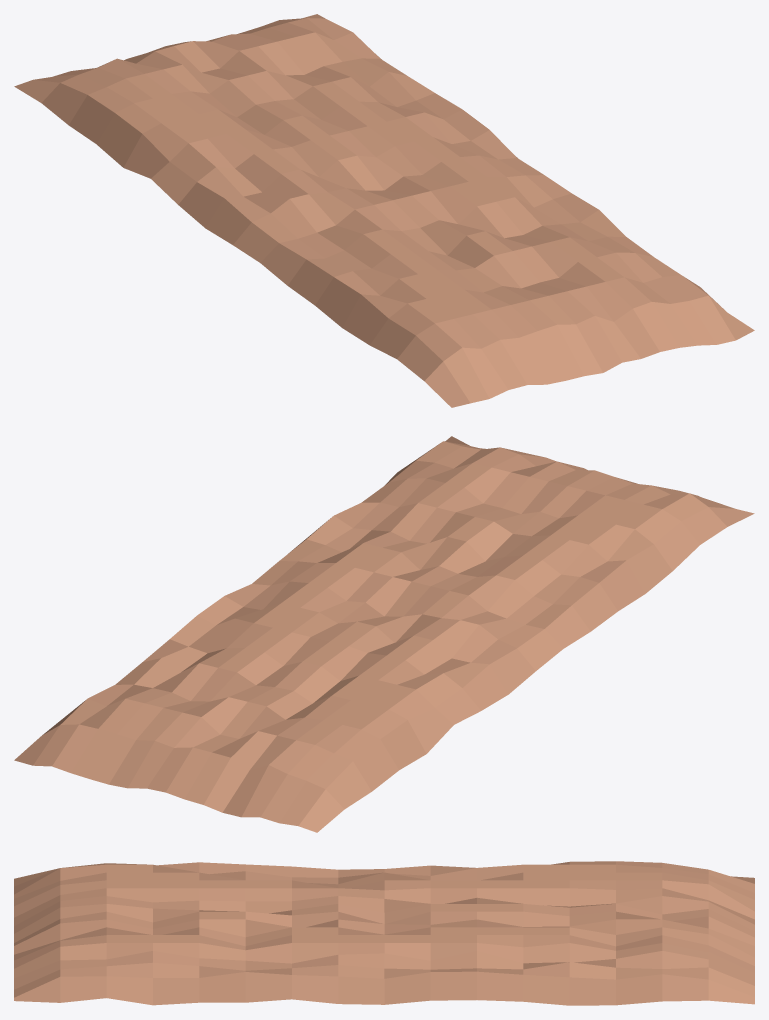
Rendered from mod_bg_SolLarge.fbx.
The picture shows the model from 3 angles, top to bottom: view 1: azimuth 30°, elevation 25°; view 2: azimuth 150°, elevation 25°; view 3: azimuth 270°, elevation 25°; orthographic projection. The views are drawn at different scales.
Parts seen in each view (by area): view 1: SolLarge; view 2: SolLarge; view 3: SolLarge.
Part boxes in pixels (x1,y1,x2,y2): SolLarge: [14, 14, 754, 407]; SolLarge: [14, 436, 754, 832]; SolLarge: [14, 861, 754, 1005].
Bounding box in the file's own units: 160 × 18.78 × 400.
